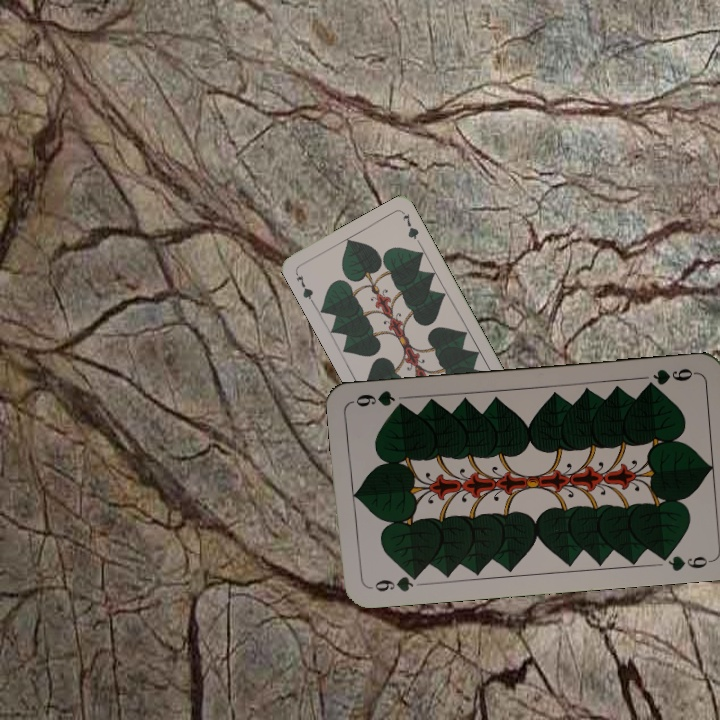G7: (291, 268, 316, 306)
G9: (640, 364, 699, 391), (365, 569, 425, 594)
